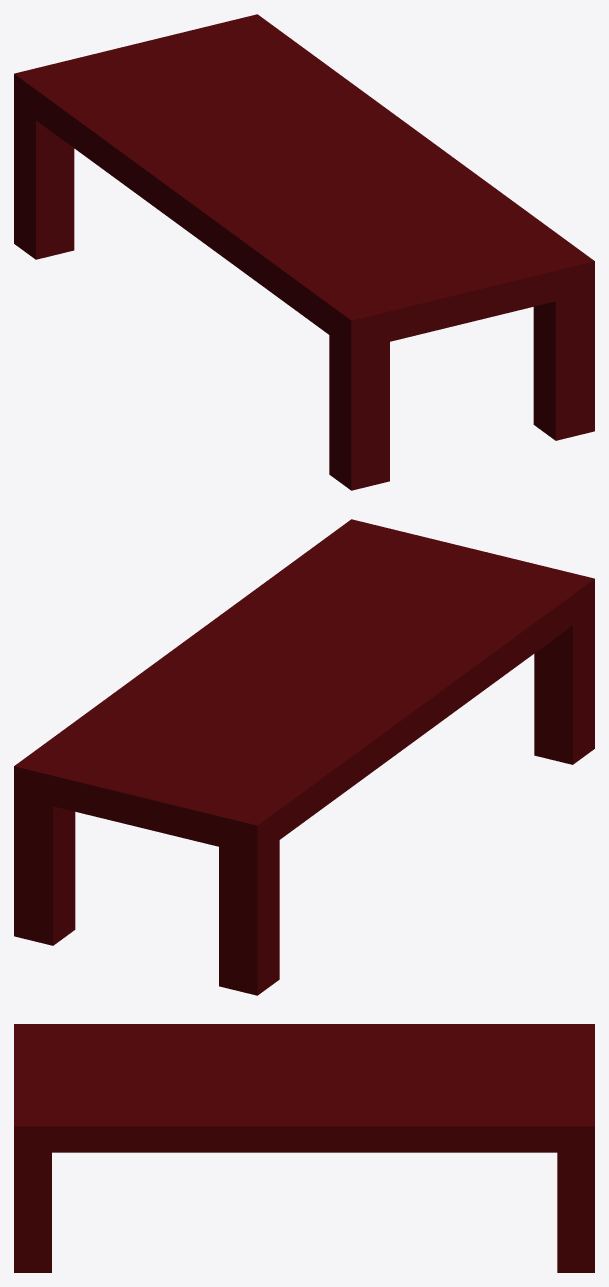
The model's file is Mesa.fbx.
3 views of the same model, one above another, from view 1: azimuth 30°, elevation 25°; view 2: azimuth 150°, elevation 25°; view 3: azimuth 270°, elevation 25° (orthographic). The views are drawn at different scales.
Parts seen in each view (by area): view 1: Box001; view 2: Box001; view 3: Box001.
Boxes of the visible parts, x1=… form: Box001: x1=14, y1=14, x2=594, y2=490; Box001: x1=14, y1=519, x2=594, y2=995; Box001: x1=14, y1=1024, x2=594, y2=1272.
Size of the model in its own units: 0.0635 by 0.1524 by 0.0424.
